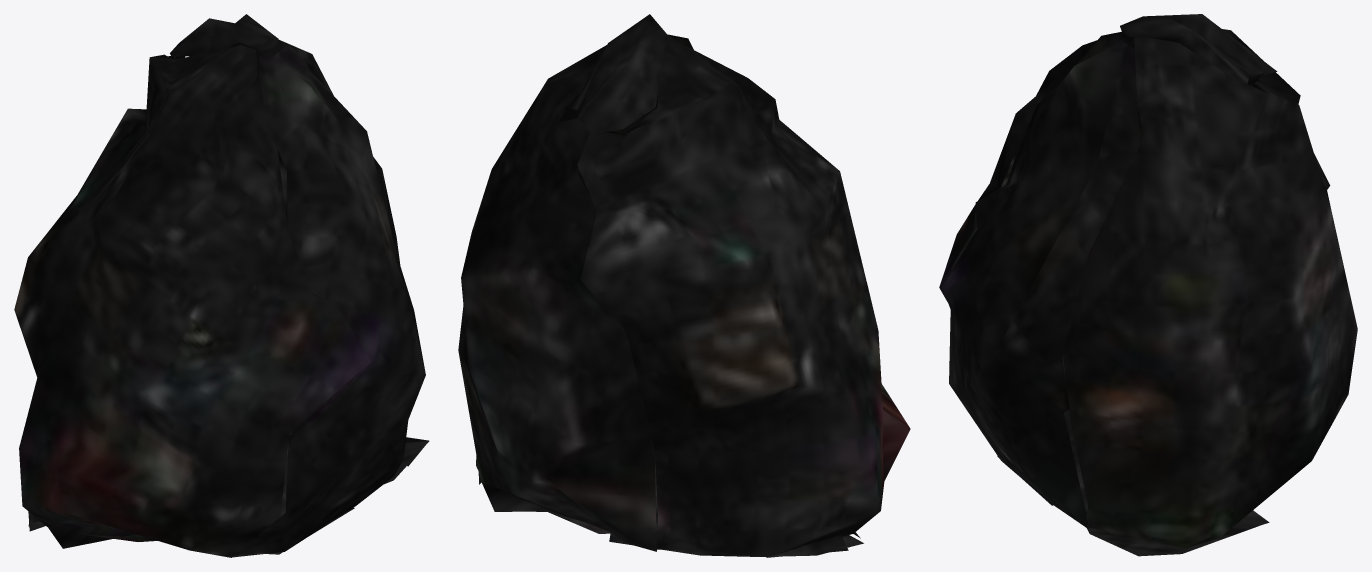
The model's file is saco_lixo.glb.
3 views of the same model, side by side, from view 1: azimuth 30°, elevation 25°; view 2: azimuth 150°, elevation 25°; view 3: azimuth 270°, elevation 25° (orthographic).
Visible parts, largest first — view 1: Malha; view 2: Malha; view 3: Malha.
Boxes of the visible parts, bbox=[...] form: Malha: bbox=[14, 14, 429, 557]; Malha: bbox=[458, 14, 910, 557]; Malha: bbox=[939, 14, 1357, 556].
Bounding box in the file's own units: 0.5206 × 0.5746 × 0.4654.
Materials: 1 (1 with a texture image).
